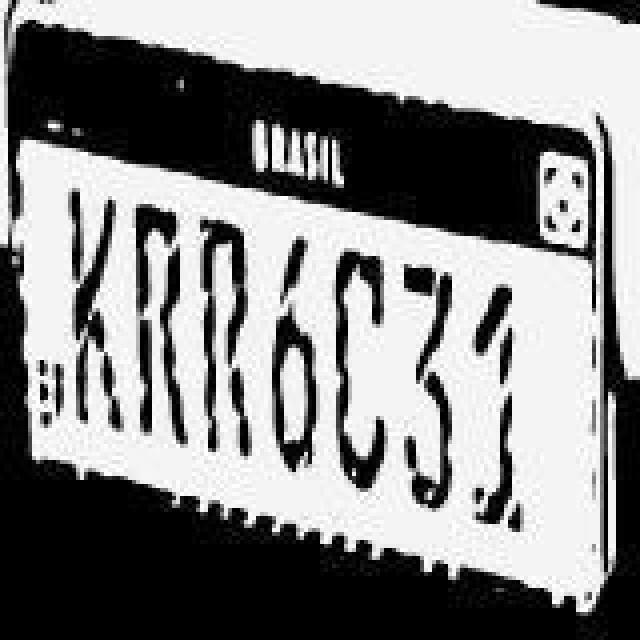1: (470, 284, 522, 532)
3: (402, 258, 454, 510)
6: (272, 234, 320, 470)
C: (332, 246, 388, 490)
K: (68, 190, 124, 434)
R: (132, 202, 188, 446), (198, 214, 250, 458)
